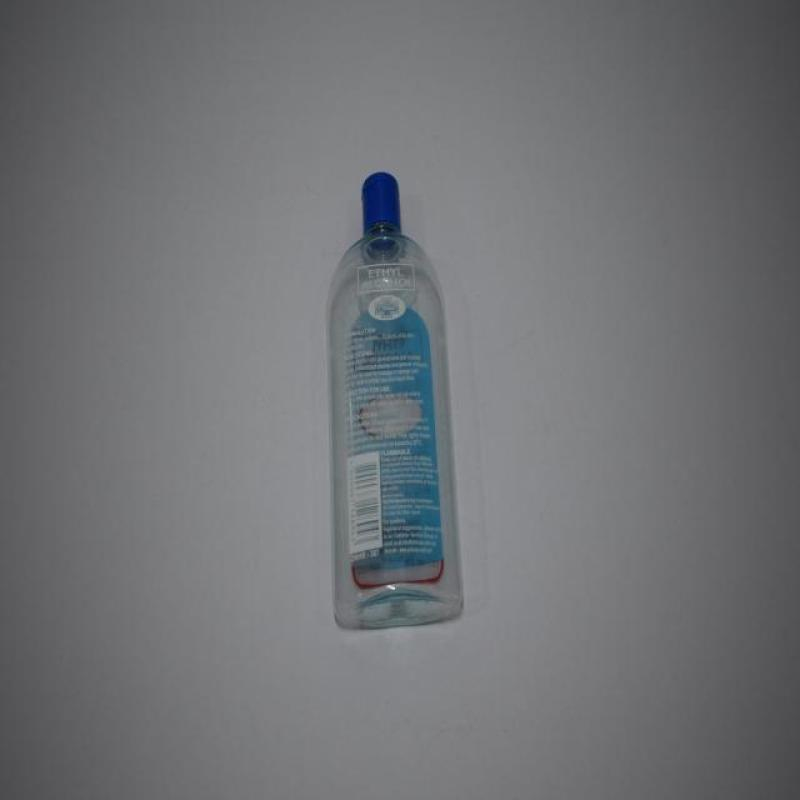botella: (329, 170, 467, 631)
